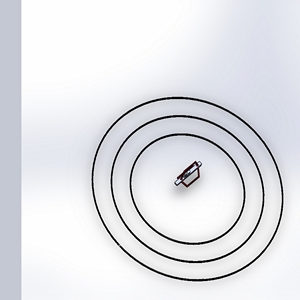circle: (87, 90, 287, 287)
submarine: (168, 156, 214, 203)
